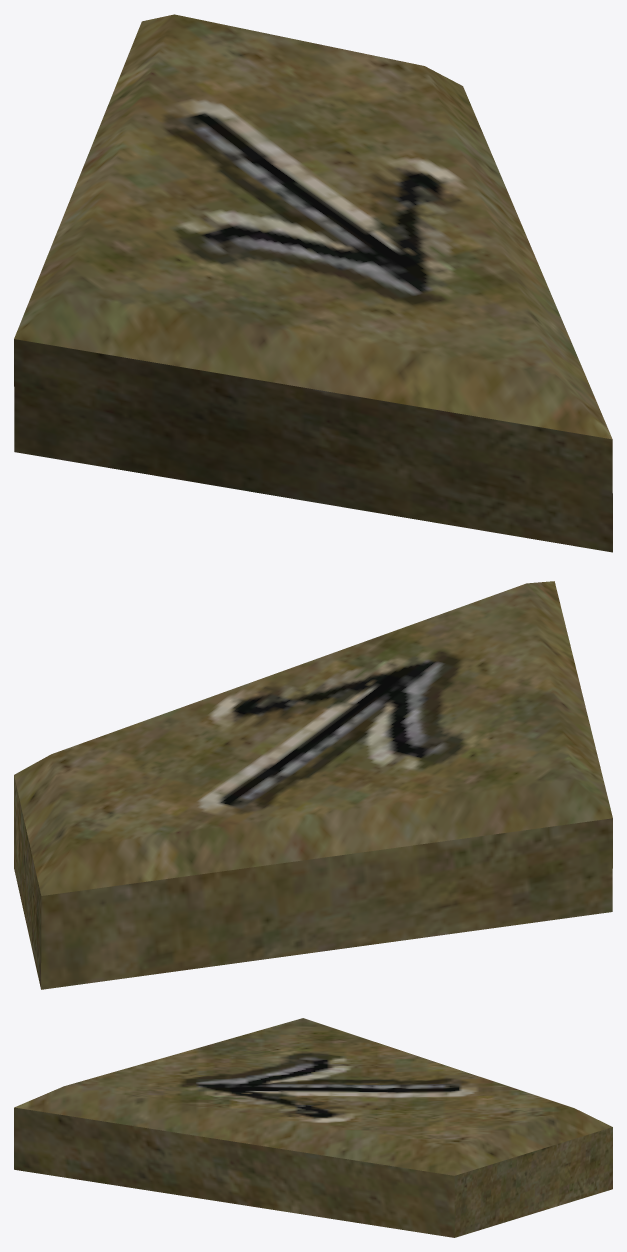
File: INST_SM_RUNED.fbx
3 views of the same model, one above another, from view 1: azimuth 30°, elevation 25°; view 2: azimuth 150°, elevation 25°; view 3: azimuth 270°, elevation 25° (orthographic). The views are drawn at different scales.
Visible parts, largest first — view 1: INST_SM_RUNED; view 2: INST_SM_RUNED; view 3: INST_SM_RUNED.
Boxes of the visible parts, box(x1,y1,x2,y2) form: INST_SM_RUNED: box(14, 14, 612, 552); INST_SM_RUNED: box(14, 581, 612, 989); INST_SM_RUNED: box(14, 1018, 612, 1237).
Size of the model in its own units: 5804 by 1500 by 9355.
1 material, 1 textured.
